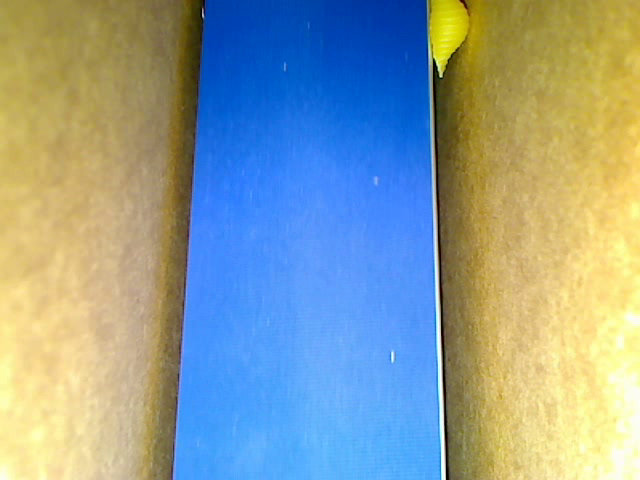shell: (426, 1, 473, 83)
